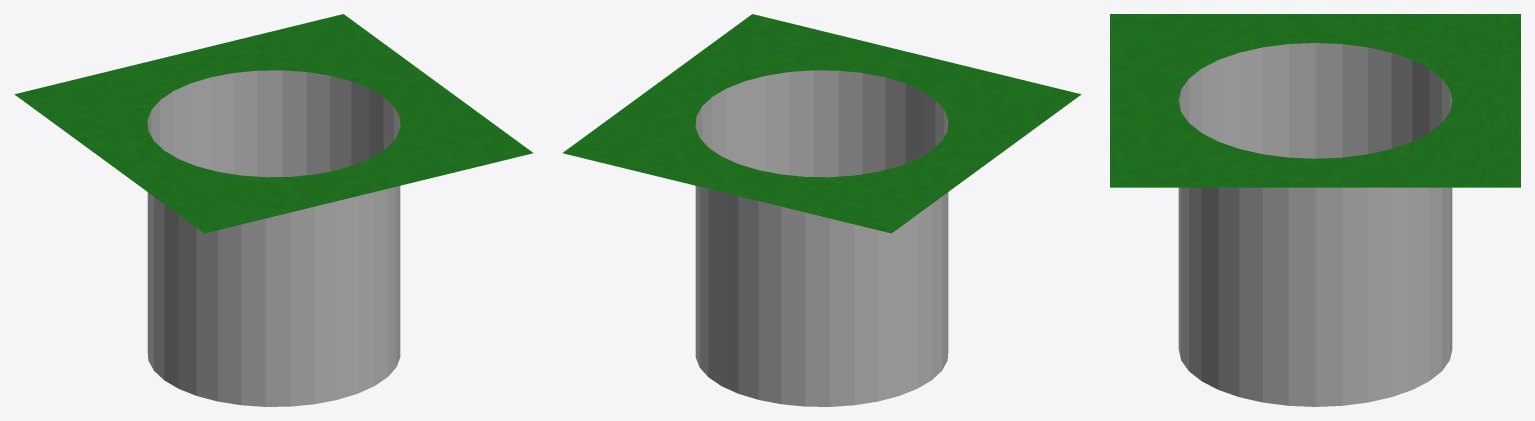
The model's file is hole.obj.
The picture shows the model from 3 angles, left to right: view 1: azimuth 30°, elevation 25°; view 2: azimuth 150°, elevation 25°; view 3: azimuth 270°, elevation 25°; orthographic projection. The views are drawn at different scales.
Visible parts, largest first — view 1: Cylinder.001, Plane.001; view 2: Cylinder.001, Plane.001; view 3: Cylinder.001, Plane.001.
Part boxes in pixels (bbox=[...]): Cylinder.001: bbox=[147, 70, 400, 406]; Plane.001: bbox=[14, 14, 533, 233]; Cylinder.001: bbox=[695, 70, 948, 406]; Plane.001: bbox=[562, 14, 1081, 233]; Cylinder.001: bbox=[1178, 43, 1452, 406]; Plane.001: bbox=[1110, 14, 1520, 187].
Bounding box in the file's own units: 3 × 2 × 3.
